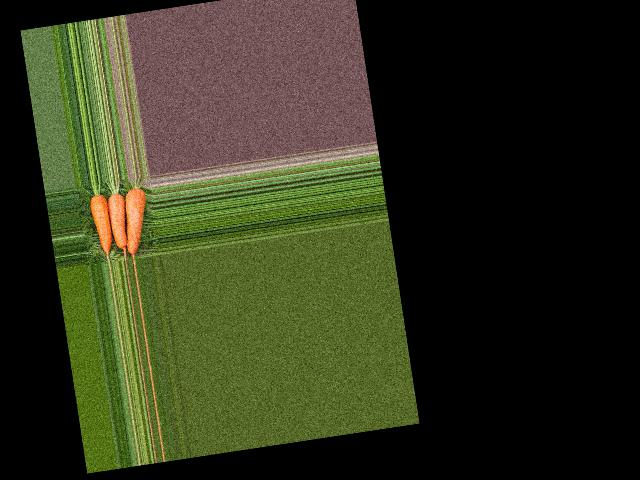carrot: (118, 186, 154, 255)
